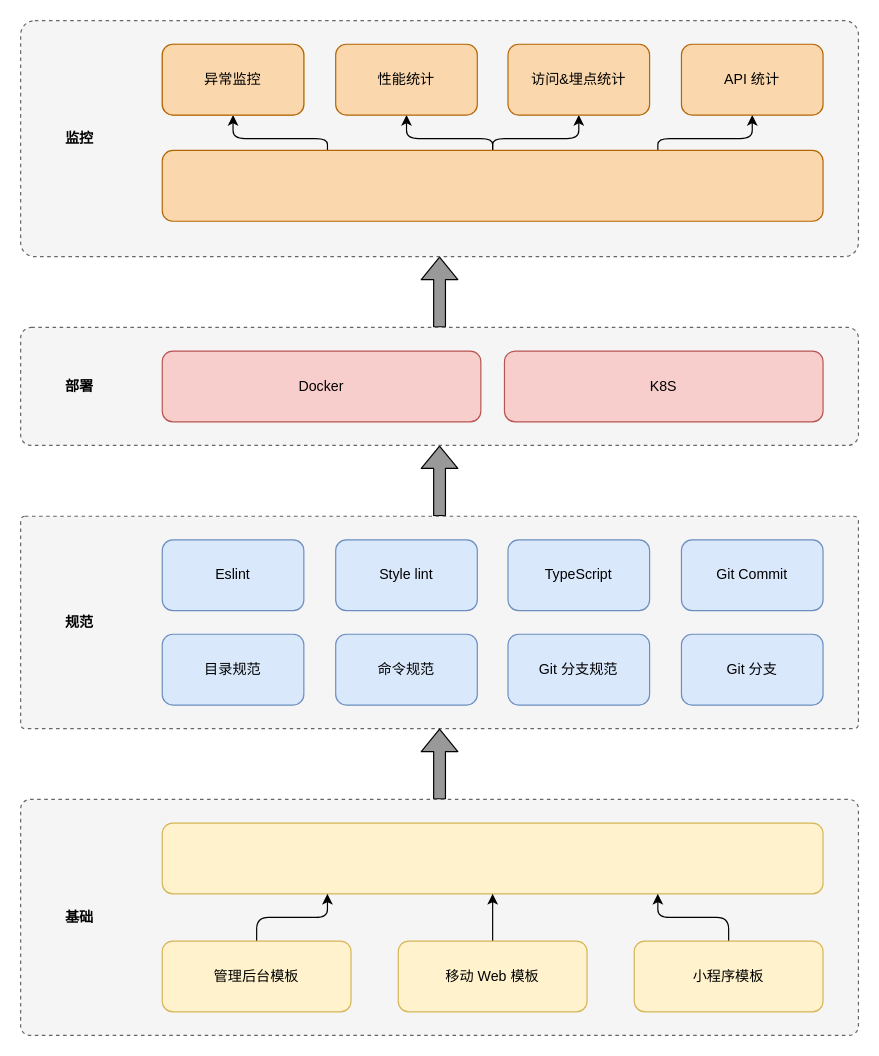
Image size: 879x1056. Some labels were removed from this diagram. Here are the shapes that lost their labels. From the top down, the centre of each, then its label:
pixel 492 185: 监控平台
pixel 492 858: CLI
